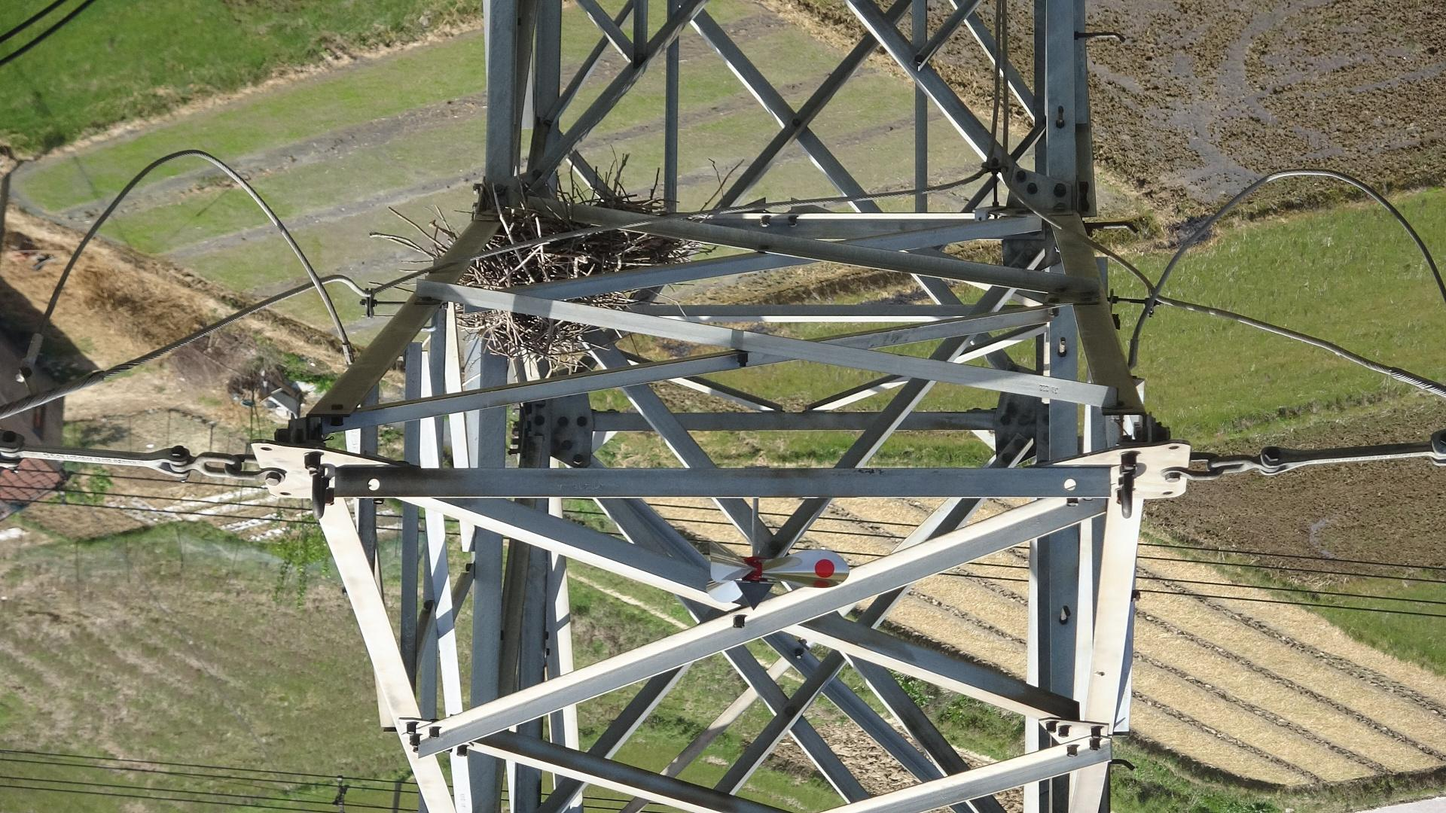nest: (450, 157, 687, 373)
